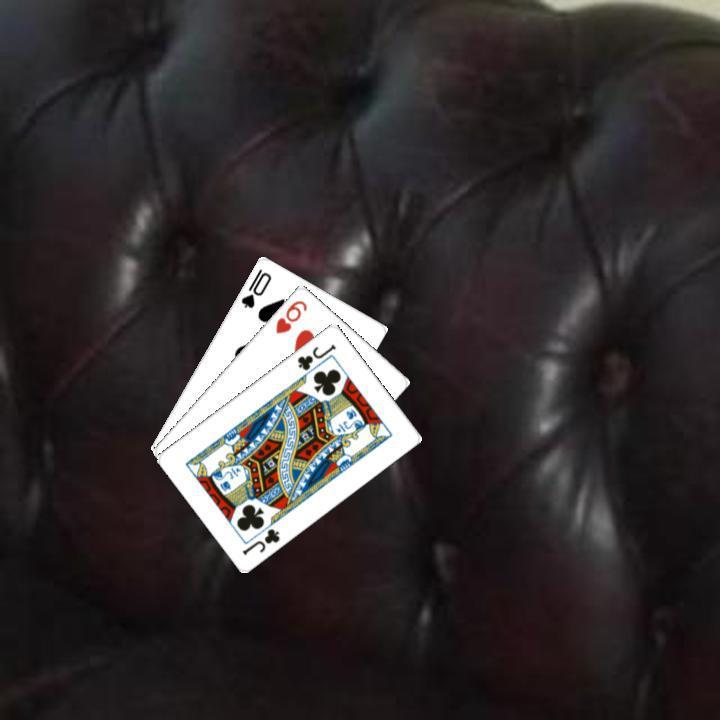10: (236, 264, 273, 310)
6: (271, 295, 309, 335)
J: (237, 523, 282, 557), (293, 339, 338, 372)
